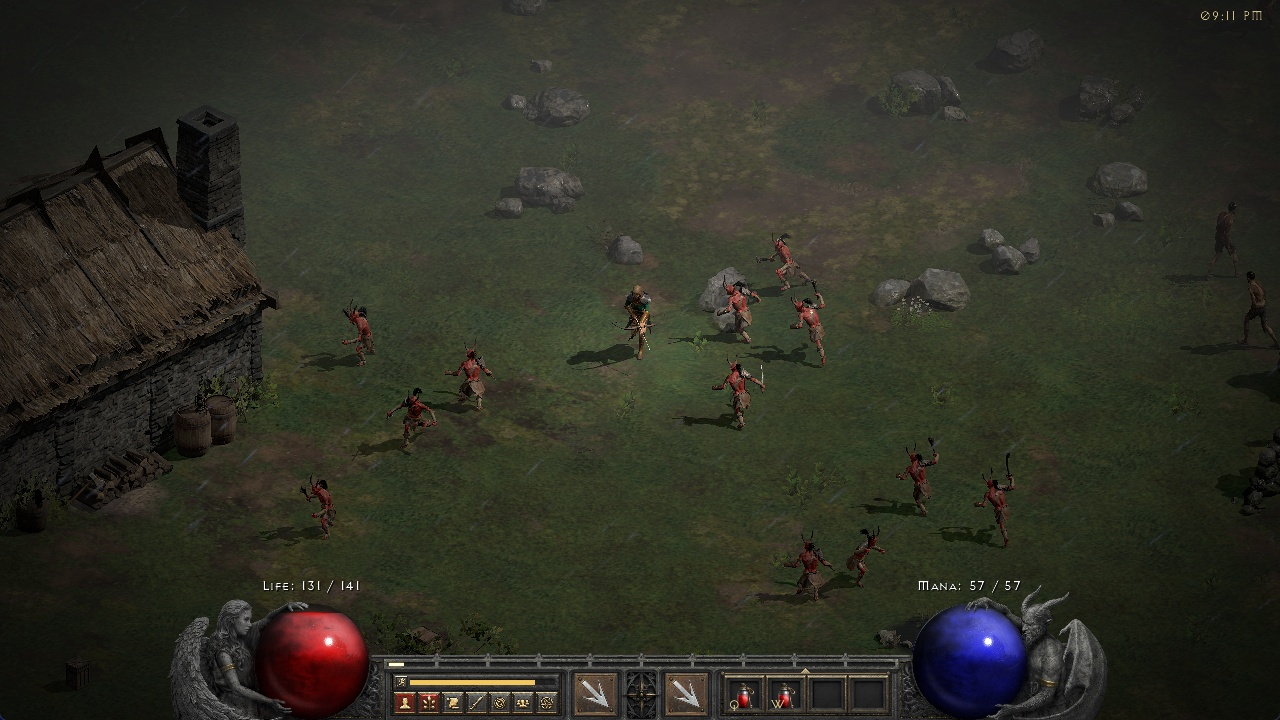fallen: (972, 448, 1034, 545), (895, 432, 953, 514), (709, 354, 777, 422), (713, 273, 769, 345), (334, 299, 392, 366), (794, 277, 836, 359), (383, 387, 441, 446), (841, 522, 893, 585), (779, 536, 832, 597), (451, 337, 494, 409), (301, 474, 338, 539), (762, 234, 813, 278)
